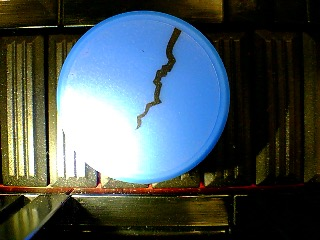CRACK: (55, 10, 231, 185)
